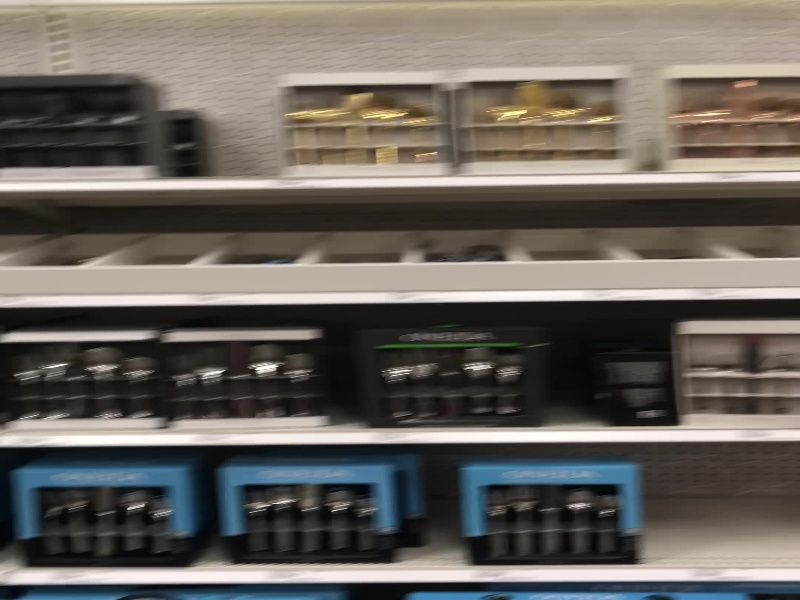void: (645, 440, 800, 564)
